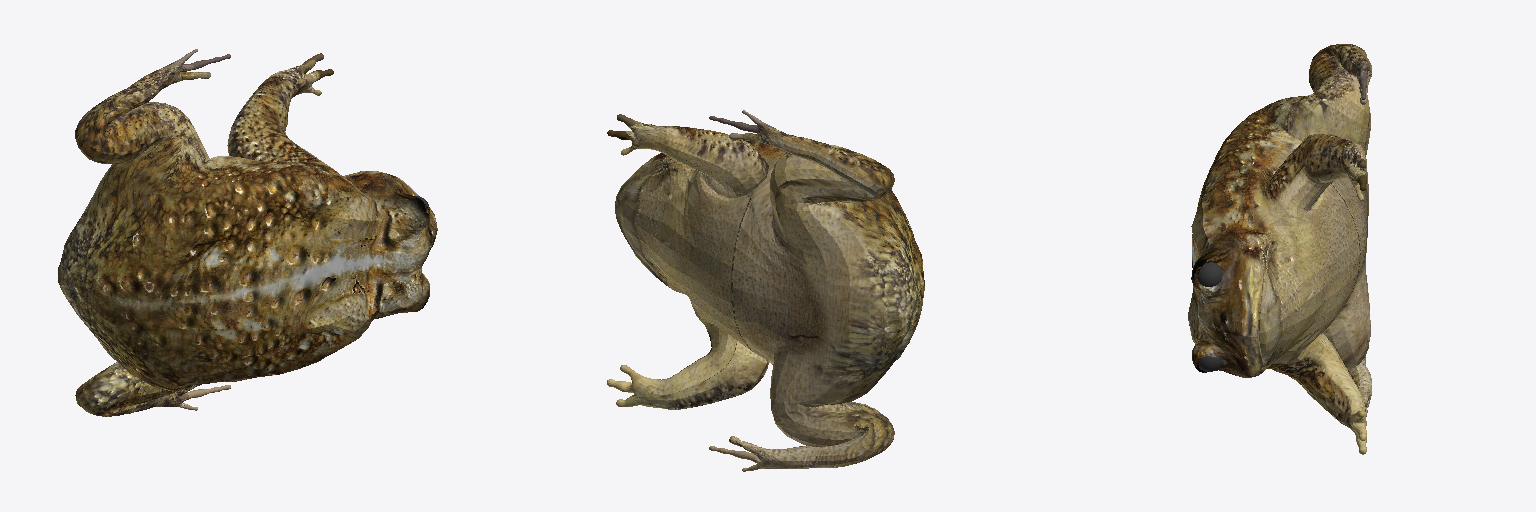
3 renders of one model, left to right at view 1: azimuth 30°, elevation 25°; view 2: azimuth 150°, elevation 25°; view 3: azimuth 270°, elevation 25°, orthographic.
Parts seen in each view (by area): view 1: frog; view 2: frog; view 3: frog, eyes.
Boxes of the visible parts, box(x1,y1,x2,y2) form: frog: box(58, 49, 437, 416); frog: box(607, 110, 924, 471); frog: box(1188, 44, 1371, 454); eyes: box(1198, 262, 1222, 371).
Bounding box in the file's own units: 7.23 × 7.49 × 3.47.
2 materials, 1 textured.